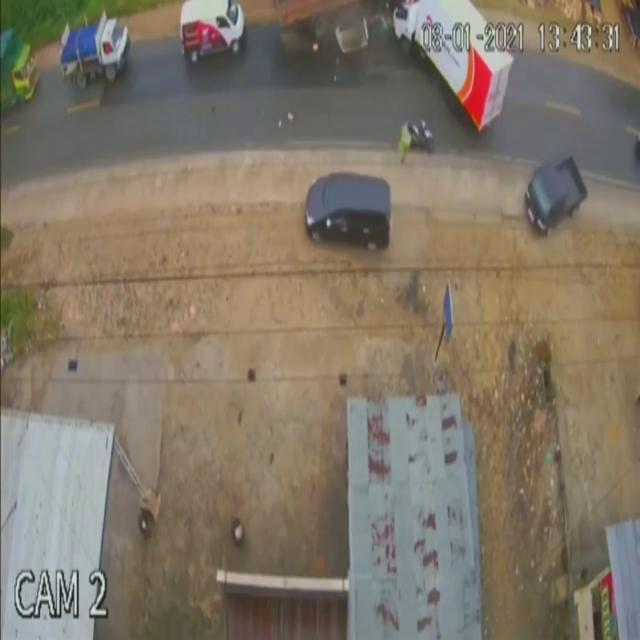accident: (273, 1, 513, 134)
